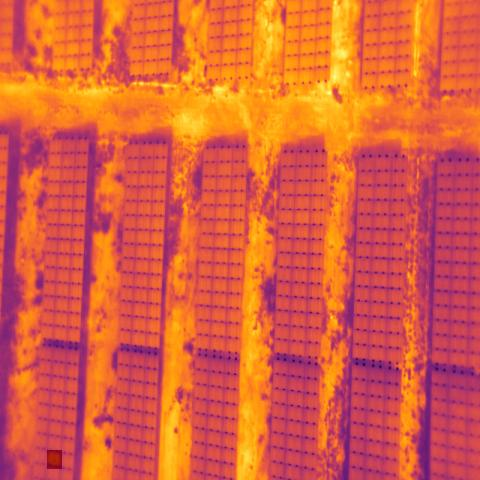fault: (47, 450, 62, 469)
